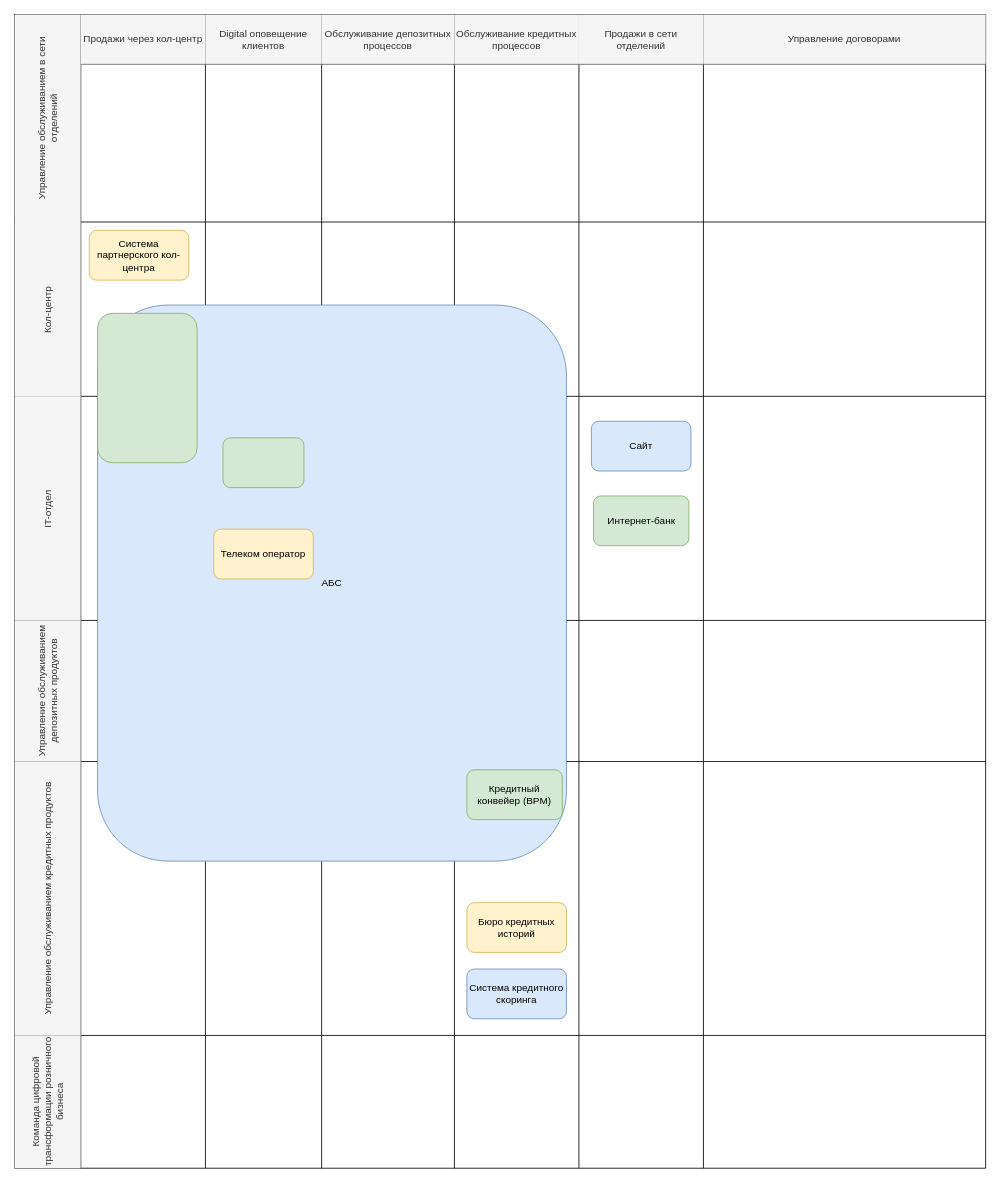
The diagram is 1000 pixels wide and 1183 high, and some of its shapes have lost their labels. Here are the shapes that lost their labels. From the top down, the box of each, then its label:
(97, 312, 197, 463): Система кол-центра
(222, 437, 304, 488): СМС-шлюз
